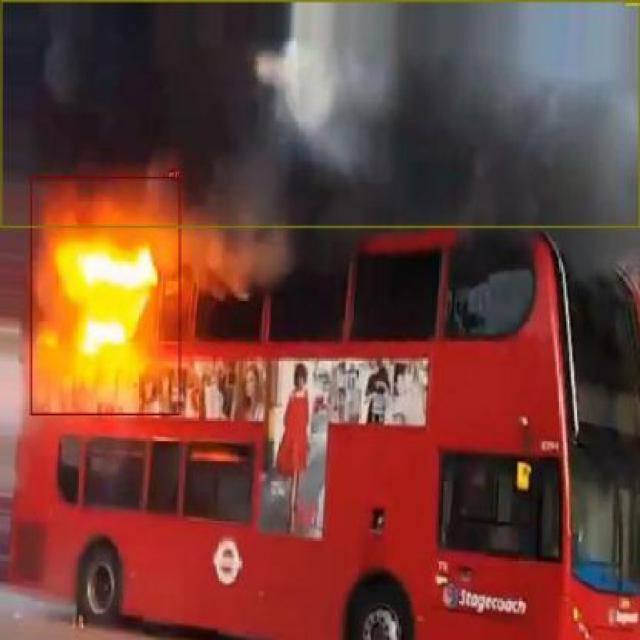Fire: (30, 176, 181, 415)
Smoke: (2, 0, 640, 227)
